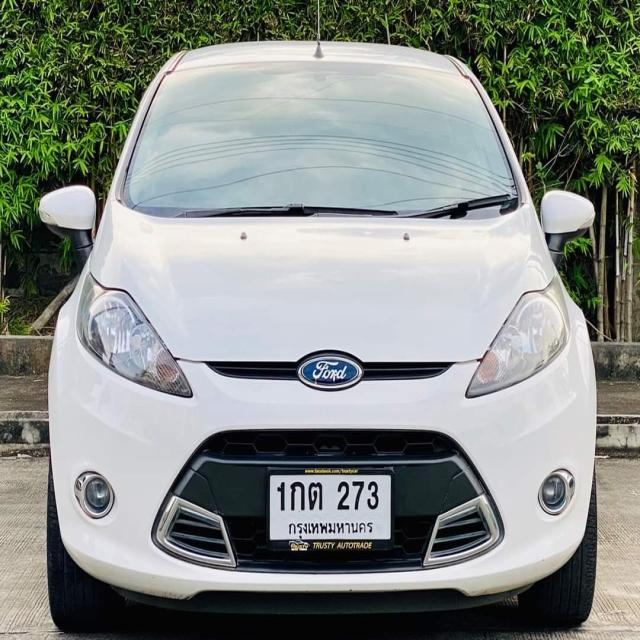license_plate: (264, 464, 398, 553)
